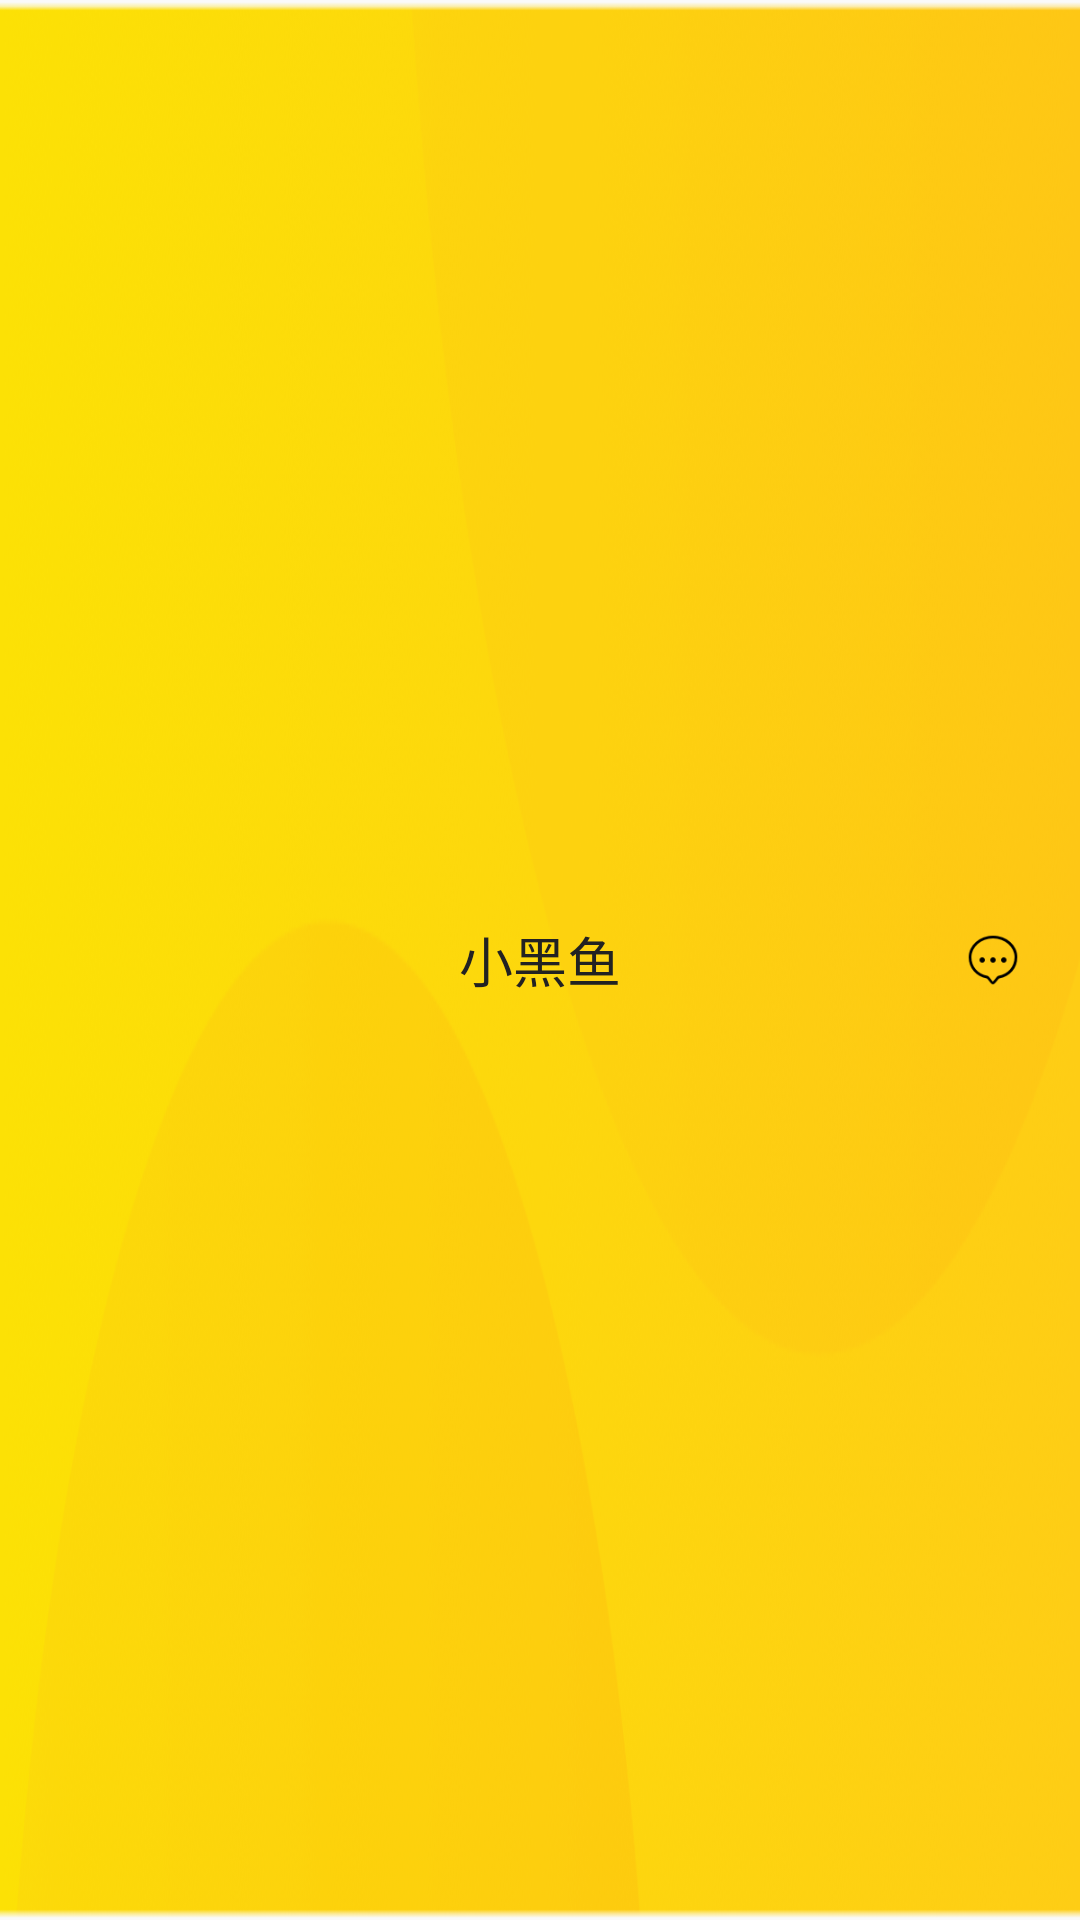

Named icons in this screenshot (1080 x 1920) and their bounding boxes, (x1, y1, x2, y2):
home title message: (968, 935, 1018, 985)
